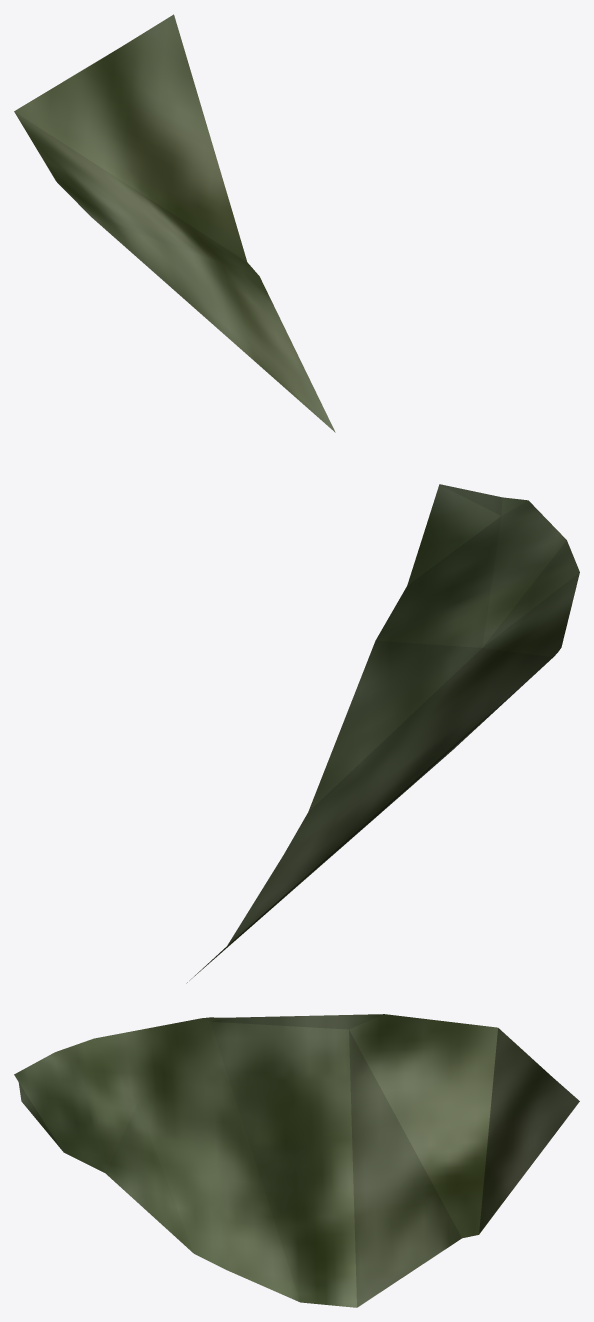
3 views of the same model, one above another, from view 1: azimuth 30°, elevation 25°; view 2: azimuth 150°, elevation 25°; view 3: azimuth 270°, elevation 25° (orthographic). The views are drawn at different scales.
Size of the model in its own units: 0.2598 by 0.2871 by 0.7129.
Materials: 1 (1 with a texture image).
